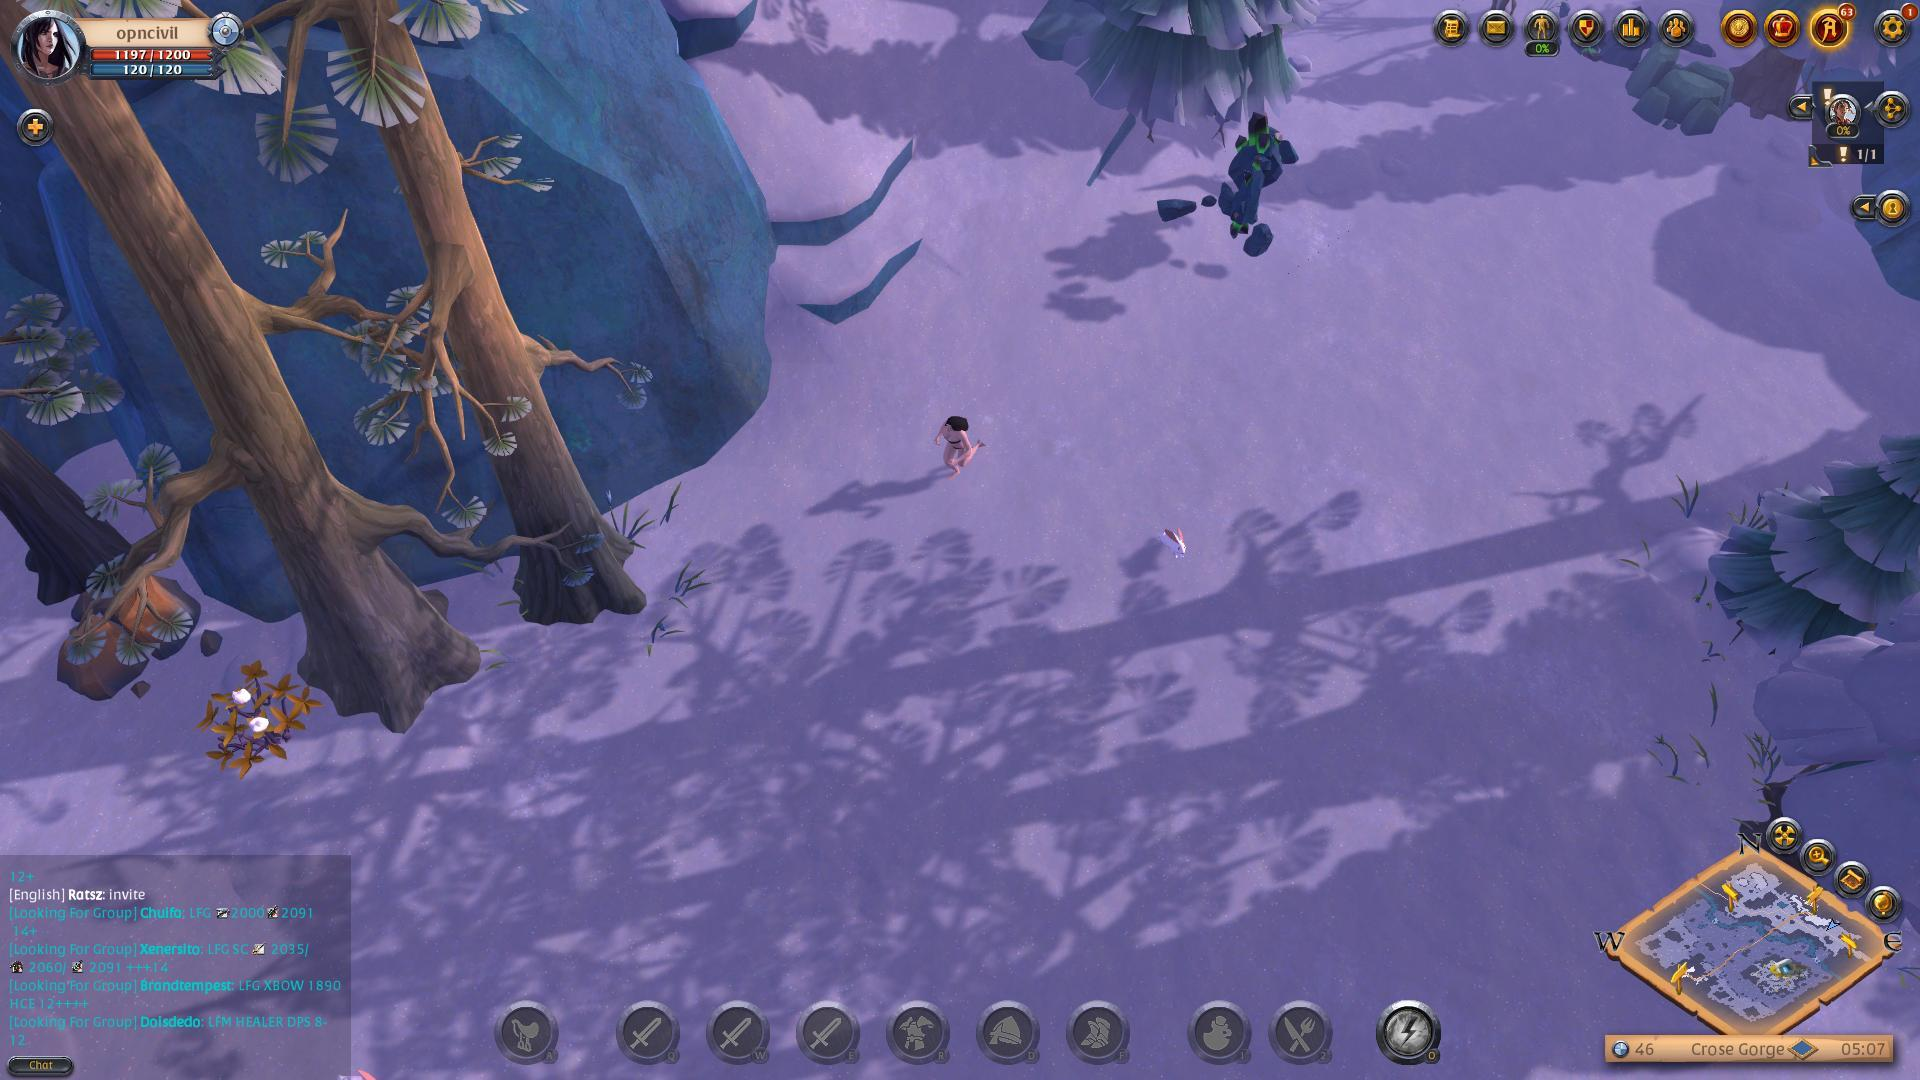cotton: (190, 673, 335, 769)
sandstone: (1630, 45, 1738, 148)
